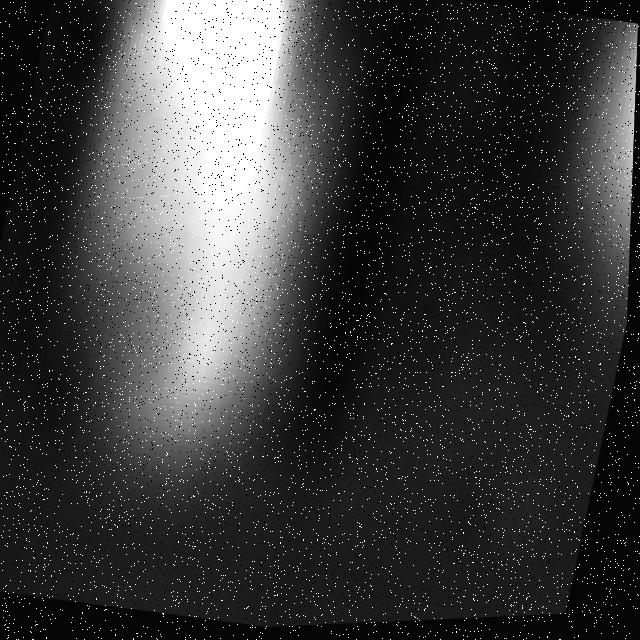person: (3, 1, 389, 543), (527, 23, 640, 393)
